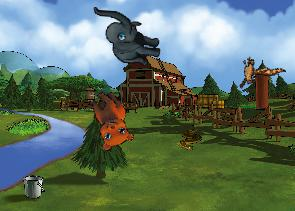bear: (75, 85, 141, 156)
eagle: (227, 43, 286, 100)
elephant: (90, 6, 163, 66)
